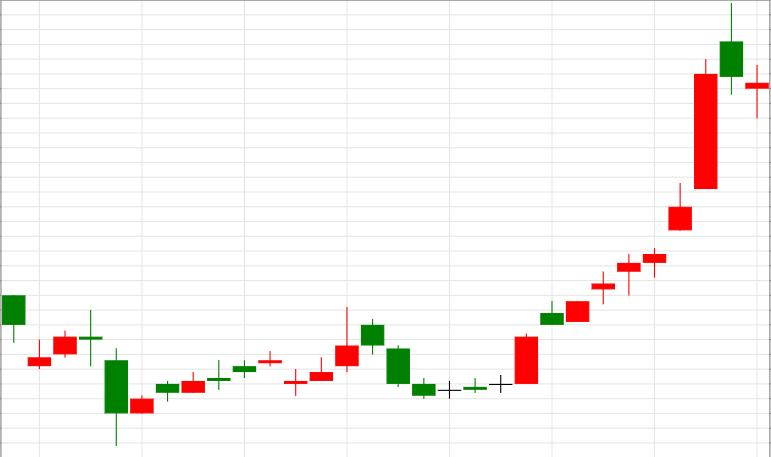shooting_star_fall: (515, 4, 744, 384)
